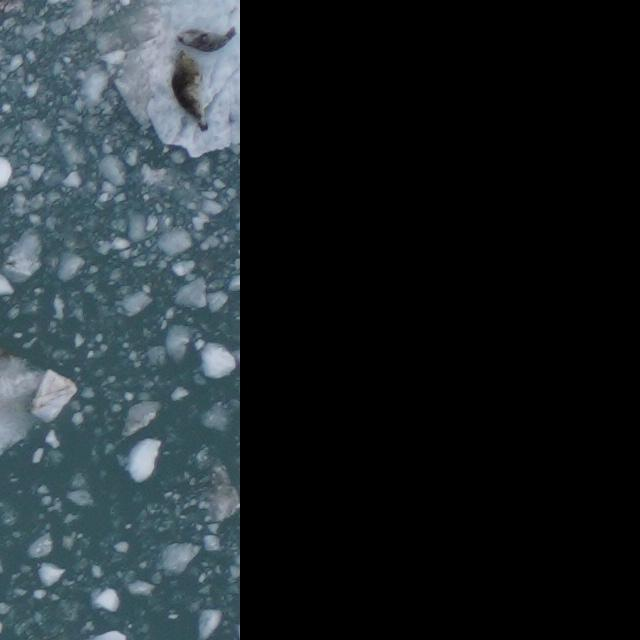seal: (168, 47, 213, 134), (173, 24, 238, 55)
